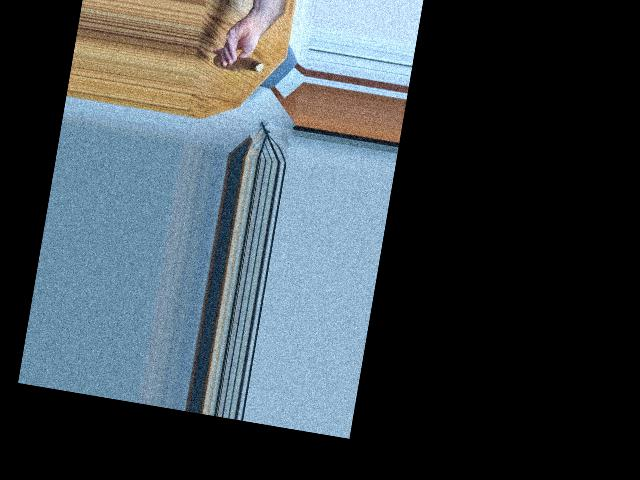sweet_potato: (215, 54, 258, 79)
